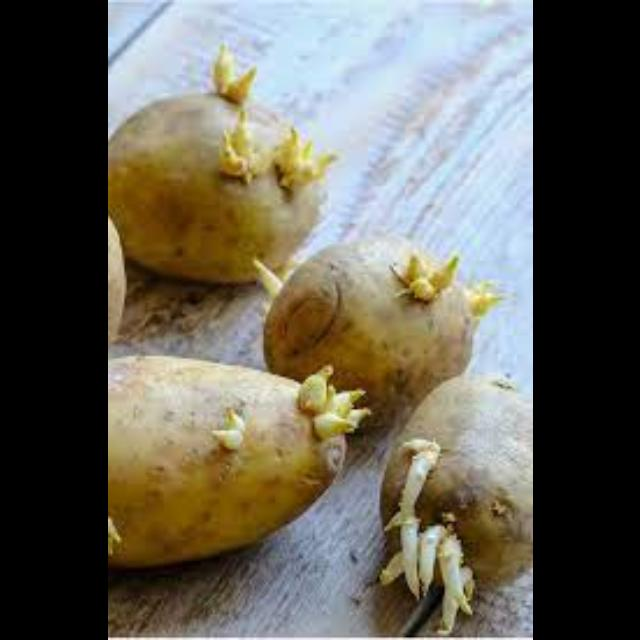Sprouted potato: (107, 353, 379, 569), (107, 31, 331, 288), (246, 203, 487, 429), (361, 355, 533, 639)
